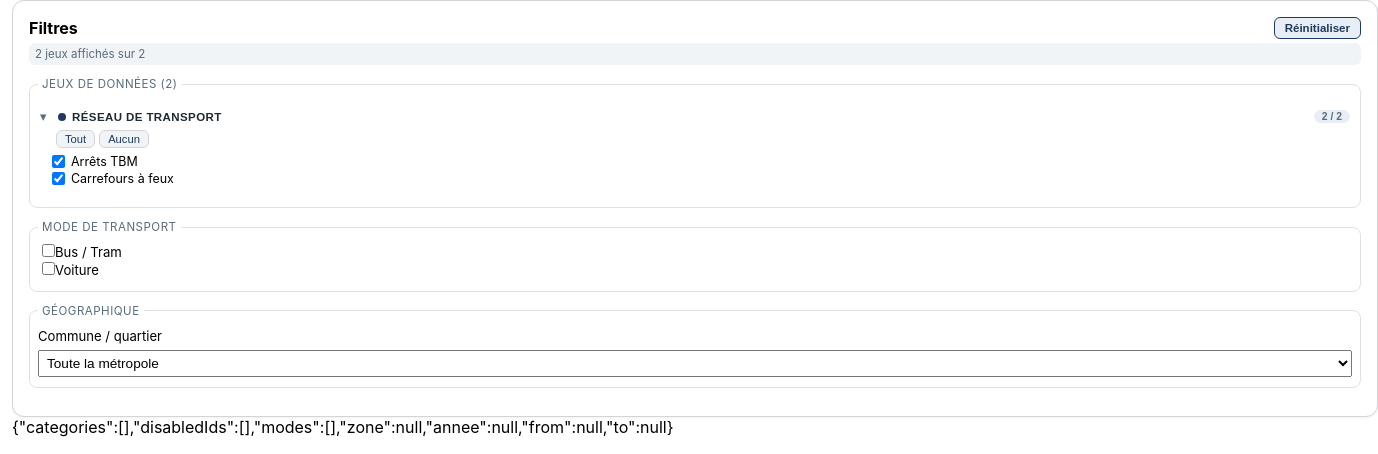
Test: FilterRail › décocher une case ajoute son id à disabledIds
The width and height of the screenshot is (1378, 454).
Step 1. Click the checkbox labelled "Arrêts TBM" → (58, 162), box [52,155,65,168]
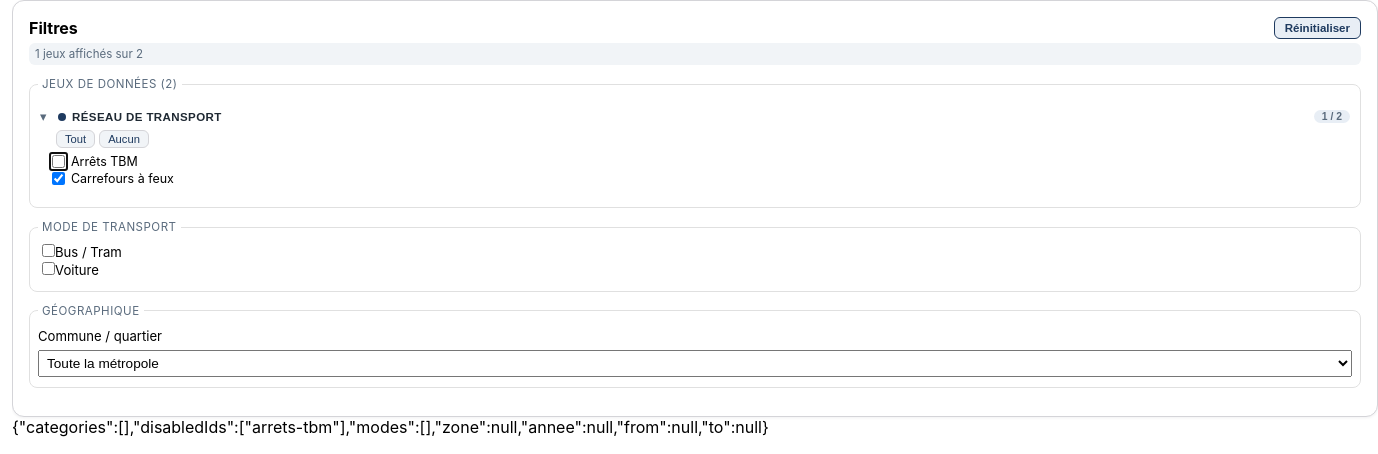
Expected: the text with test id "state" shows "\"disabledIds\":[\"arrets-tbm\"]", [12,417,769,437]
